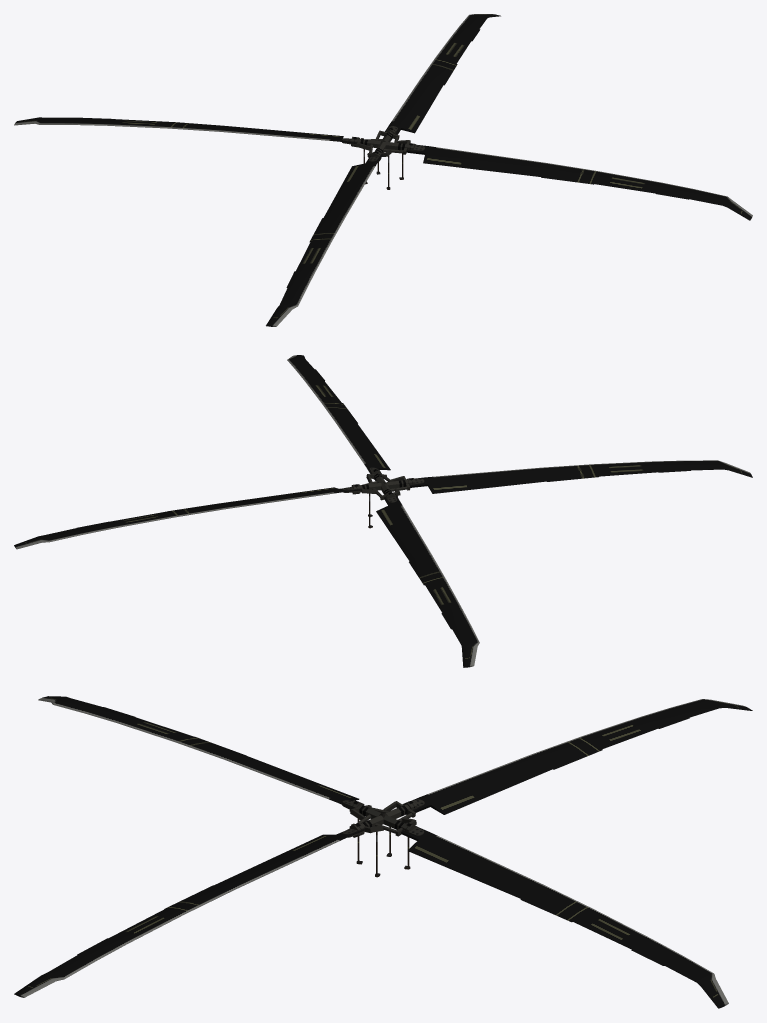
File: SM_CampHeli_MainRotor.fbx
3 views of the same model, one above another, from view 1: azimuth 30°, elevation 25°; view 2: azimuth 150°, elevation 25°; view 3: azimuth 270°, elevation 25° (orthographic). The views are drawn at different scales.
Visible parts, largest first — view 1: SM_CampHeli_MainRotor; view 2: SM_CampHeli_MainRotor; view 3: SM_CampHeli_MainRotor.
Boxes of the visible parts, <box> form: SM_CampHeli_MainRotor: <box>14,14,752,326</box>; SM_CampHeli_MainRotor: <box>14,355,752,667</box>; SM_CampHeli_MainRotor: <box>14,696,752,1008</box>.
Bounding box in the file's own units: 1227 × 1227 × 97.58.
1 material, 1 textured.
